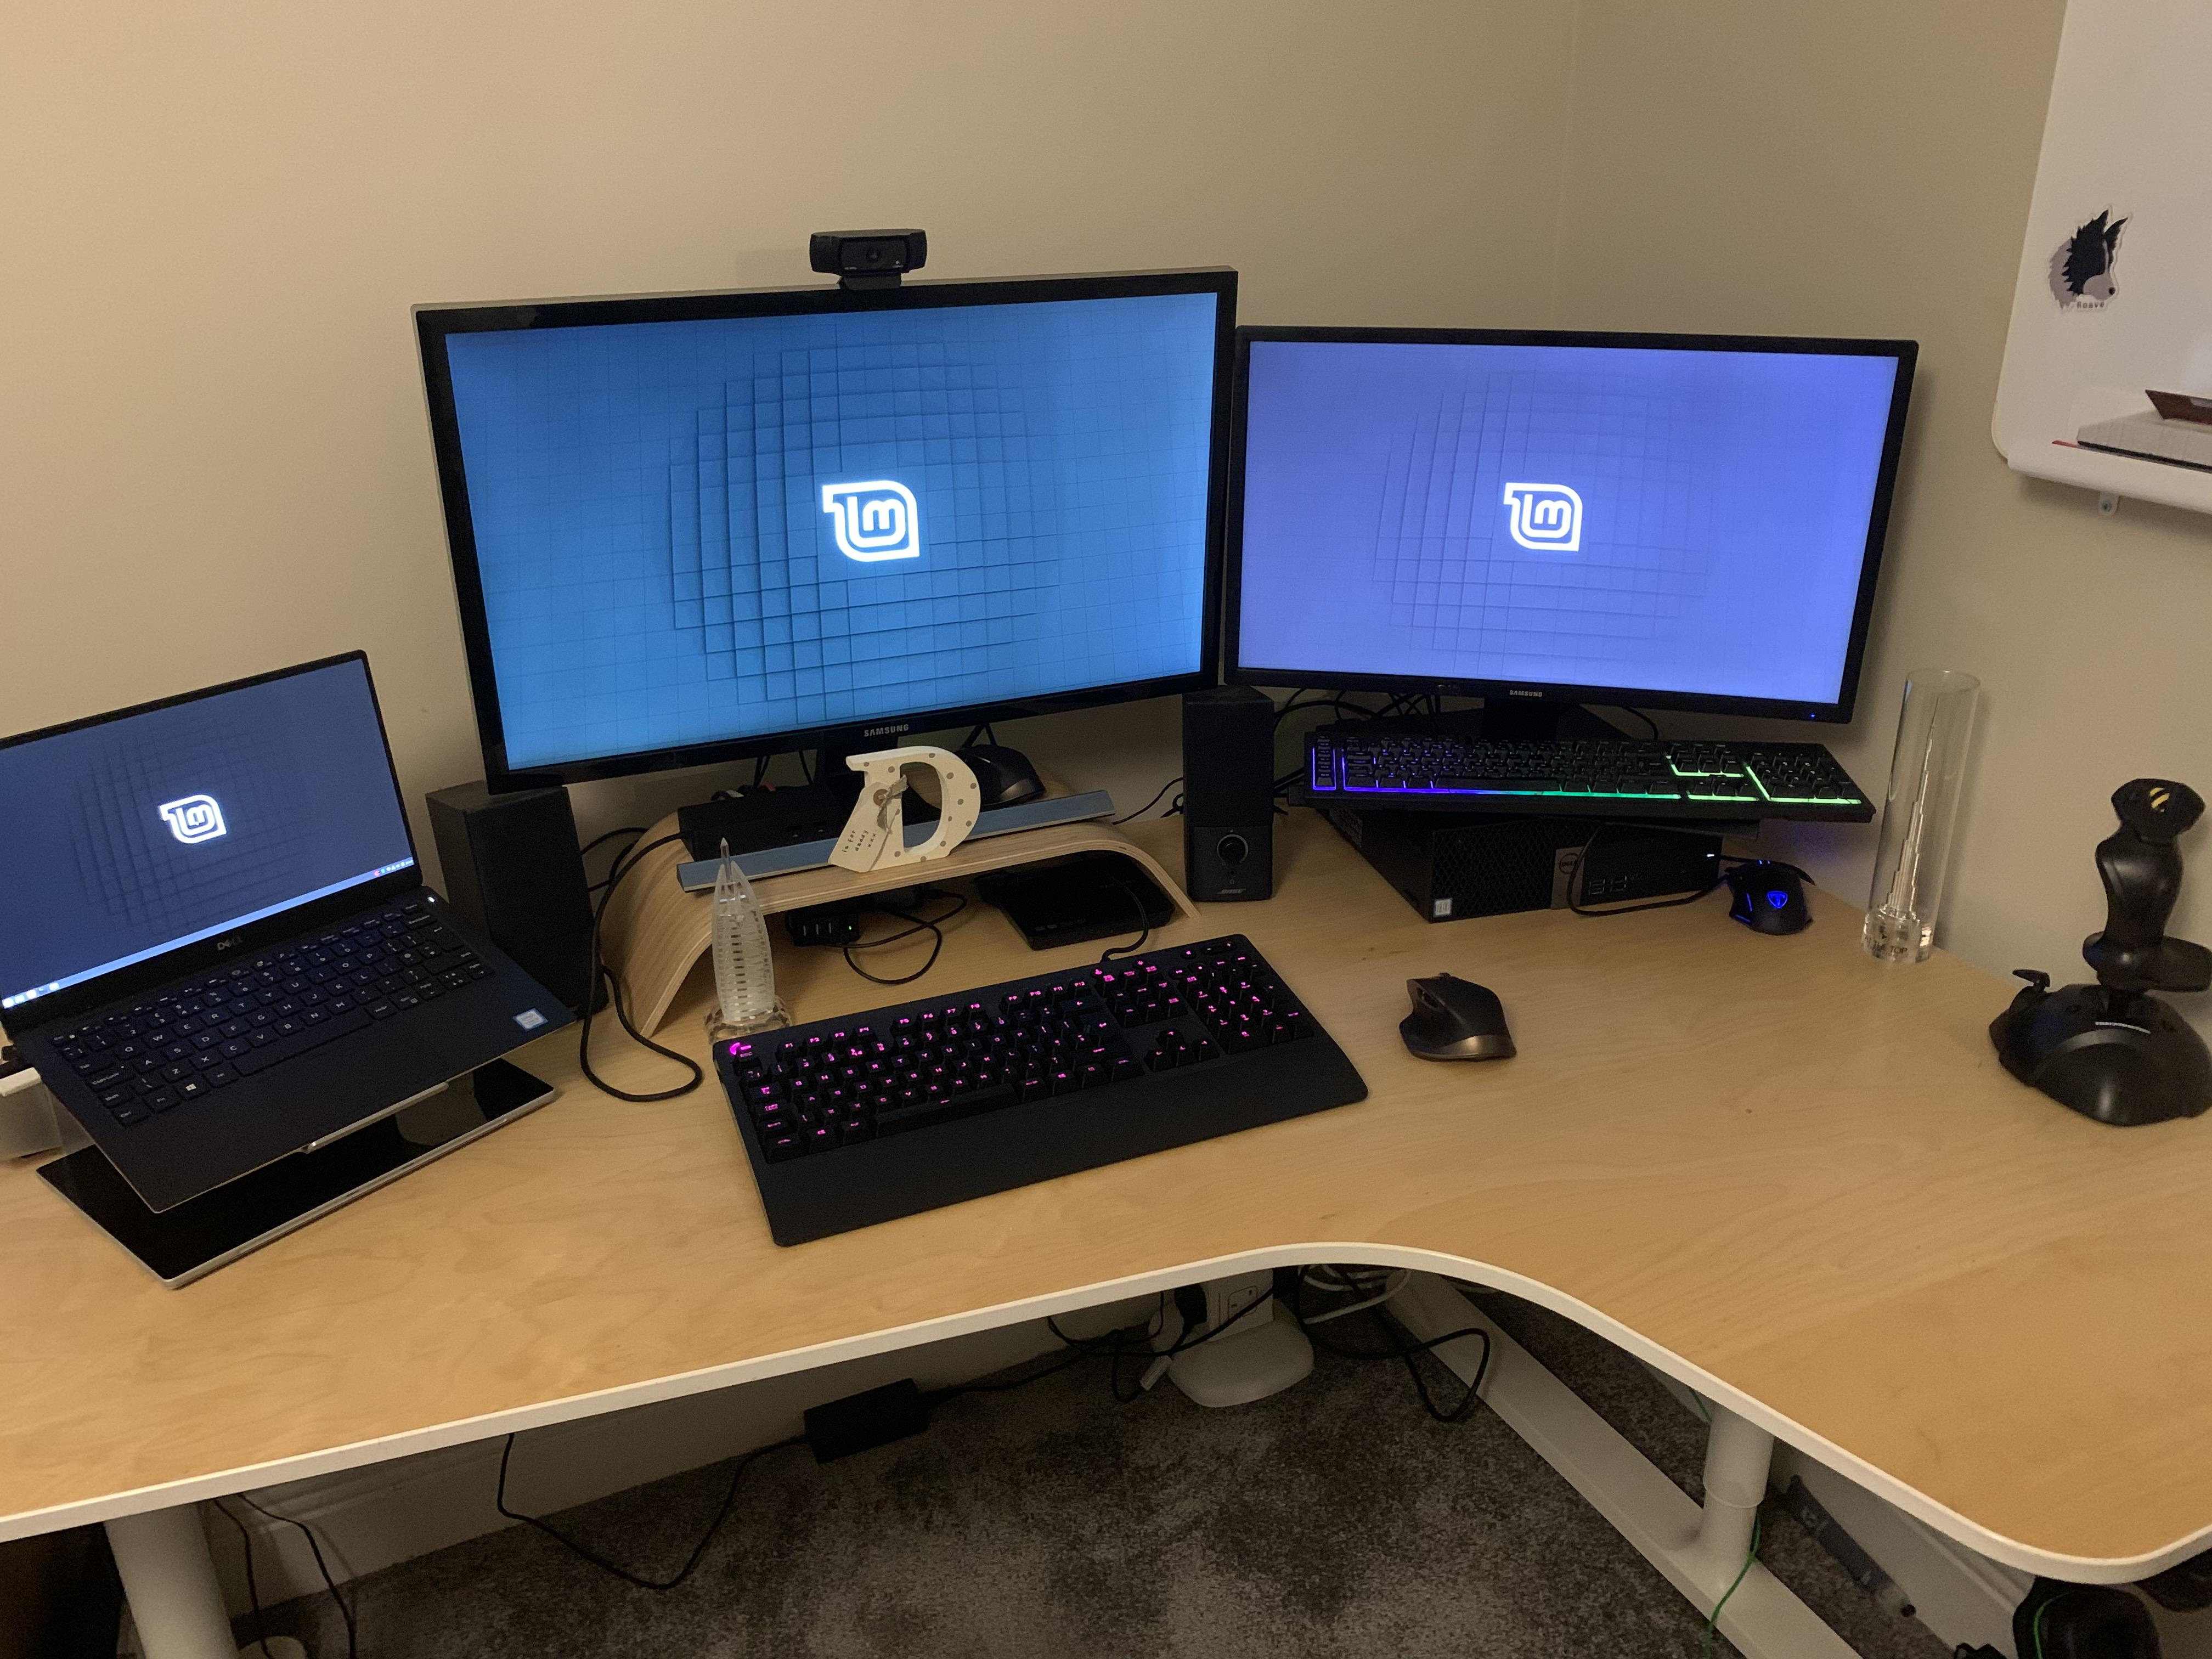Decoration (Miniature): (1855, 645, 1970, 976), (676, 866, 786, 1025)
Desk (Standing): (0, 809, 2212, 1593)
Desktop (Generic): (1364, 835, 1789, 920)
External Speakers (Generic): (444, 779, 613, 1004), (1174, 692, 1301, 913)
External Webcam: (801, 216, 941, 288)
Gaming Controller: (1968, 765, 2212, 1143)
Keyboard (Gaming): (718, 939, 1360, 1253), (1308, 723, 1878, 823)
Laptop (Linux): (0, 660, 582, 1166)
Laptop Stand: (0, 1072, 549, 1249)
Monitor (Landscape): (442, 328, 1205, 678), (1245, 336, 1862, 714)
Monitor (Laptop): (0, 655, 430, 983)
Mouse (Ergonomic): (1390, 962, 1534, 1087), (961, 737, 1042, 817)
Mouse (Gaming): (1721, 856, 1831, 941)
Power Strip: (1139, 1276, 1331, 1392)
USB Hub: (792, 906, 874, 967)
